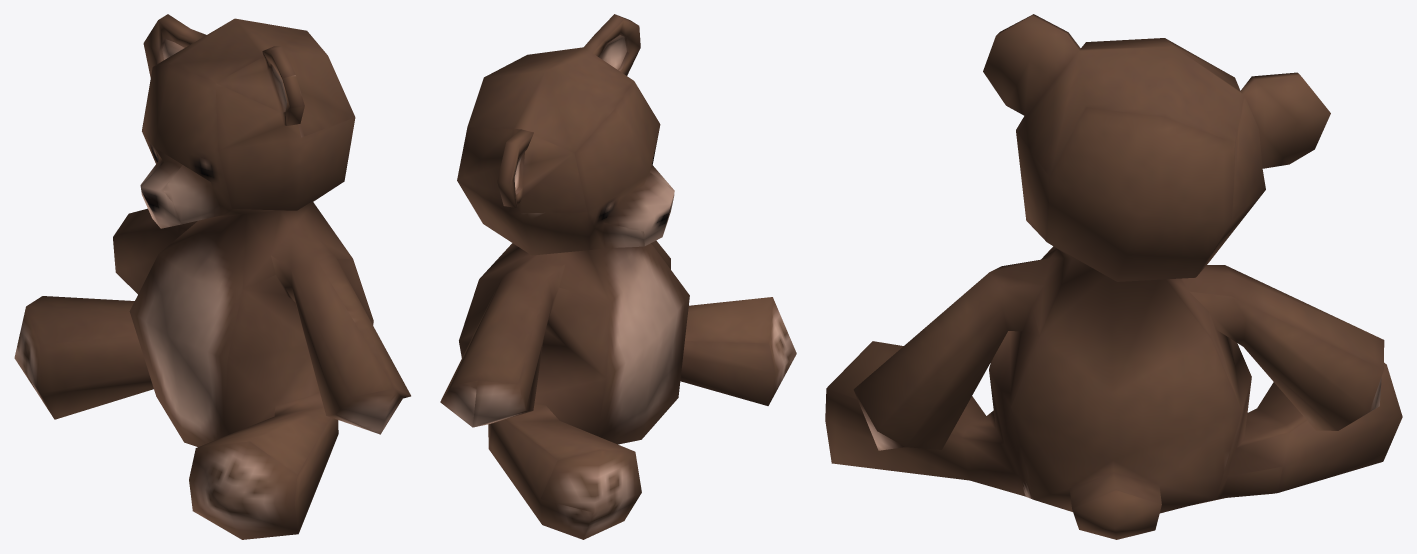
The model's file is Teddy.fbx.
3 renders of one model, left to right at view 1: azimuth 30°, elevation 25°; view 2: azimuth 150°, elevation 25°; view 3: azimuth 270°, elevation 25°, orthographic. The views are drawn at different scales.
Parts seen in each view (by area): view 1: obj_teddy; view 2: obj_teddy; view 3: obj_teddy.
Boxes of the visible parts, <box> form: obj_teddy: <box>14,14,410,539</box>; obj_teddy: <box>440,14,796,539</box>; obj_teddy: <box>825,14,1402,539</box>.
Size of the model in its own units: 252 by 399 by 413.
1 material, 1 textured.
